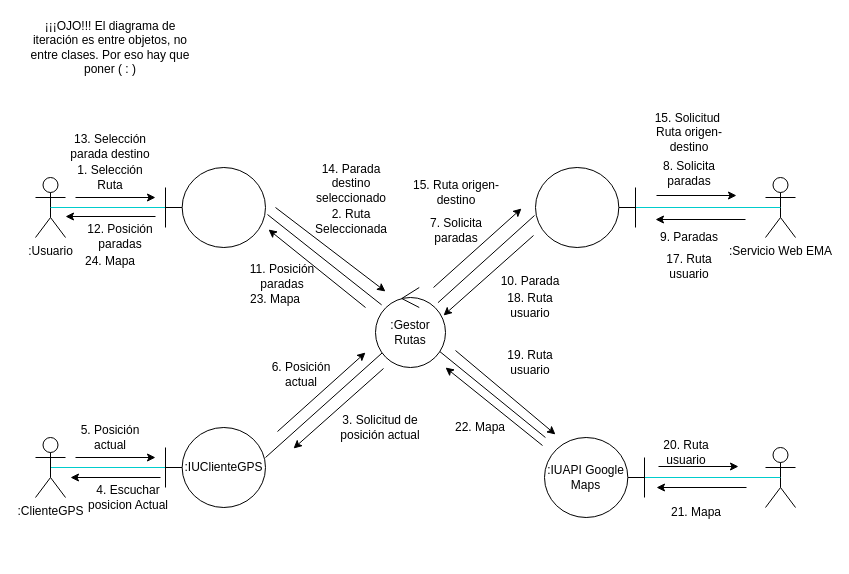
Some shapes in this 849 by 574 pixel diagram are drawn without their labels. The centre of each missing label's shape, as x and y in pixels:
:API Google Maps: point 780,477
:IUServicio Web EMA: point 585,207
:IUsuario: point 215,207
